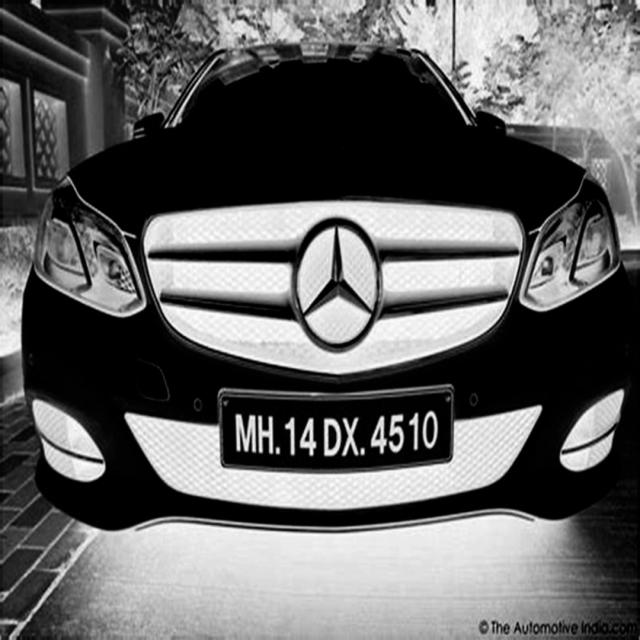Non_registered: (224, 394, 455, 468)
